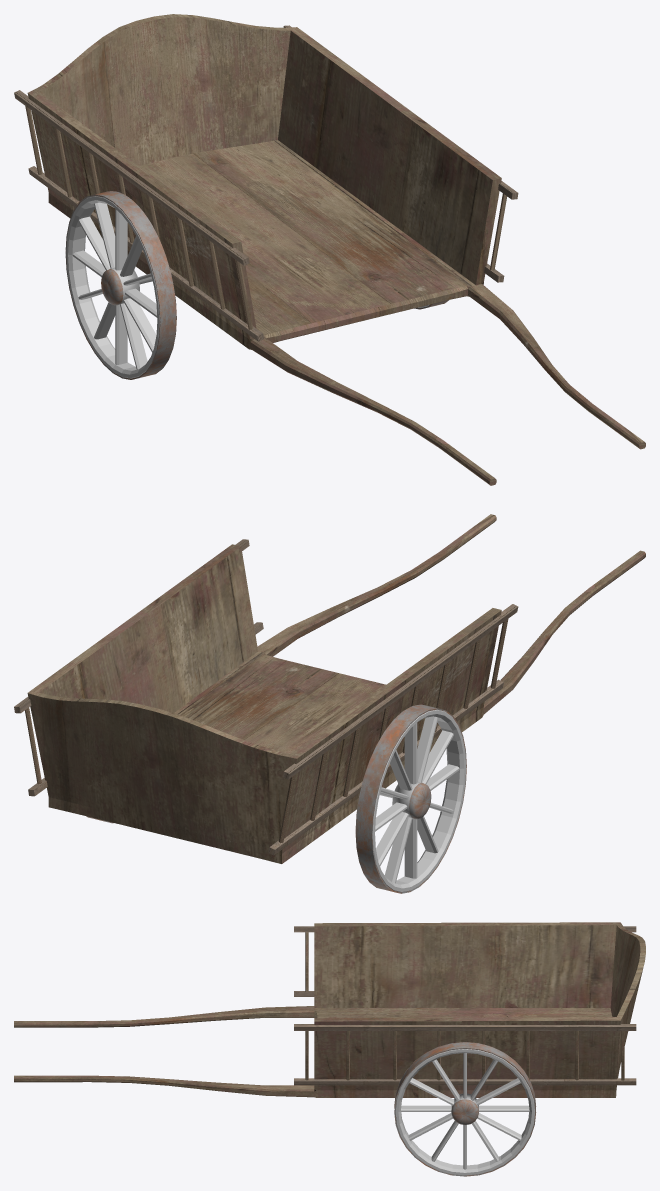
File: wagon.fbx
3 renders of one model, top to bottom at view 1: azimuth 30°, elevation 25°; view 2: azimuth 150°, elevation 25°; view 3: azimuth 270°, elevation 25°, orthographic. The views are drawn at different scales.
Visible parts, largest first — view 1: Cylinder.005, Cylinder.001, Cylinder.000; view 2: Cylinder.005, Cylinder.001, Cylinder.000; view 3: Cylinder.005, Cylinder.001, Cylinder.000.
Part boxes in pixels (bbox=[...]): Cylinder.005: bbox=[14, 14, 645, 485]; Cylinder.001: bbox=[65, 190, 446, 379]; Cylinder.000: bbox=[65, 191, 448, 377]; Cylinder.005: bbox=[14, 514, 645, 863]; Cylinder.001: bbox=[86, 704, 466, 893]; Cylinder.000: bbox=[87, 705, 436, 891]; Cylinder.005: bbox=[14, 922, 645, 1097]; Cylinder.001: bbox=[394, 1042, 536, 1176]; Cylinder.000: bbox=[394, 1042, 535, 1108].
Bounding box in the file's own units: 273 × 188 × 627.
